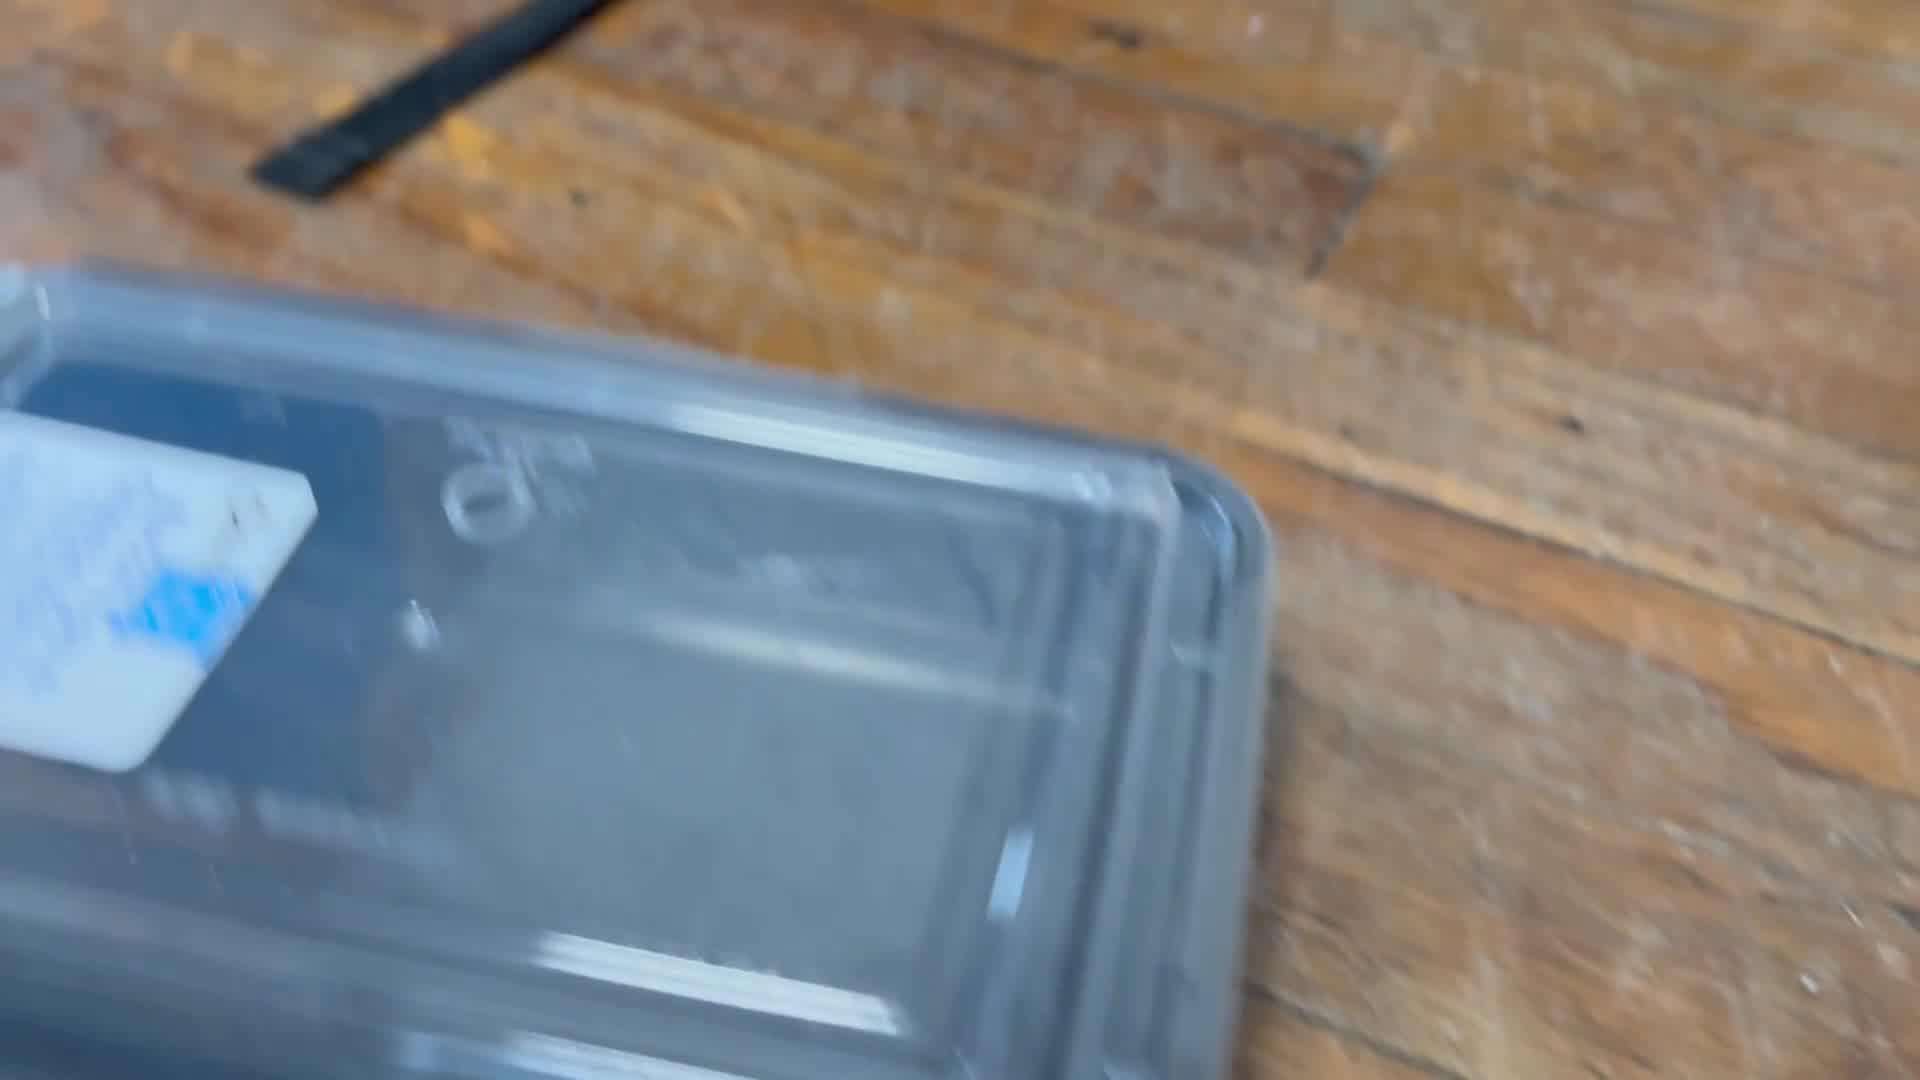lp_cup_lids: (0, 257, 1284, 1080)
